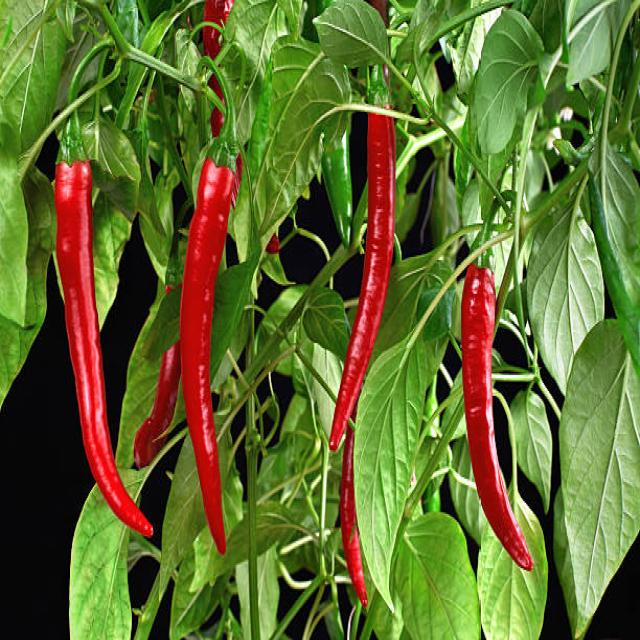Ripe: (52, 160, 140, 533), (328, 113, 394, 455), (461, 267, 533, 573), (181, 163, 234, 557), (340, 428, 366, 605)
